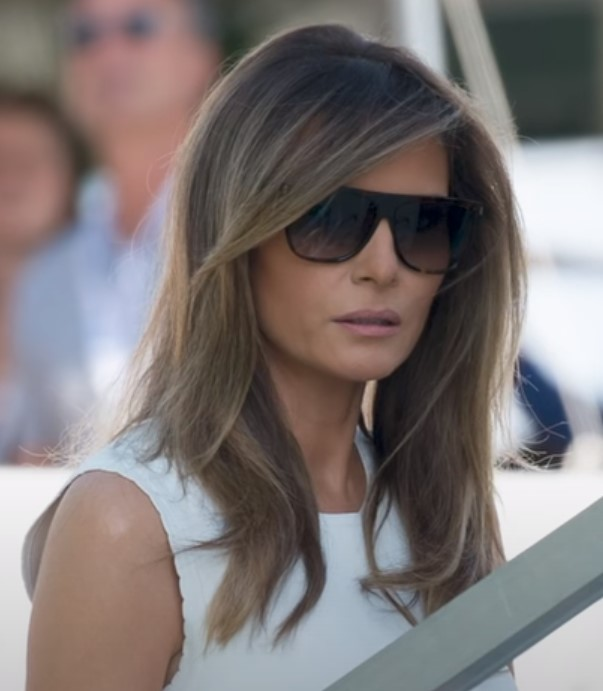face_no_mask: (226, 76, 466, 400)
